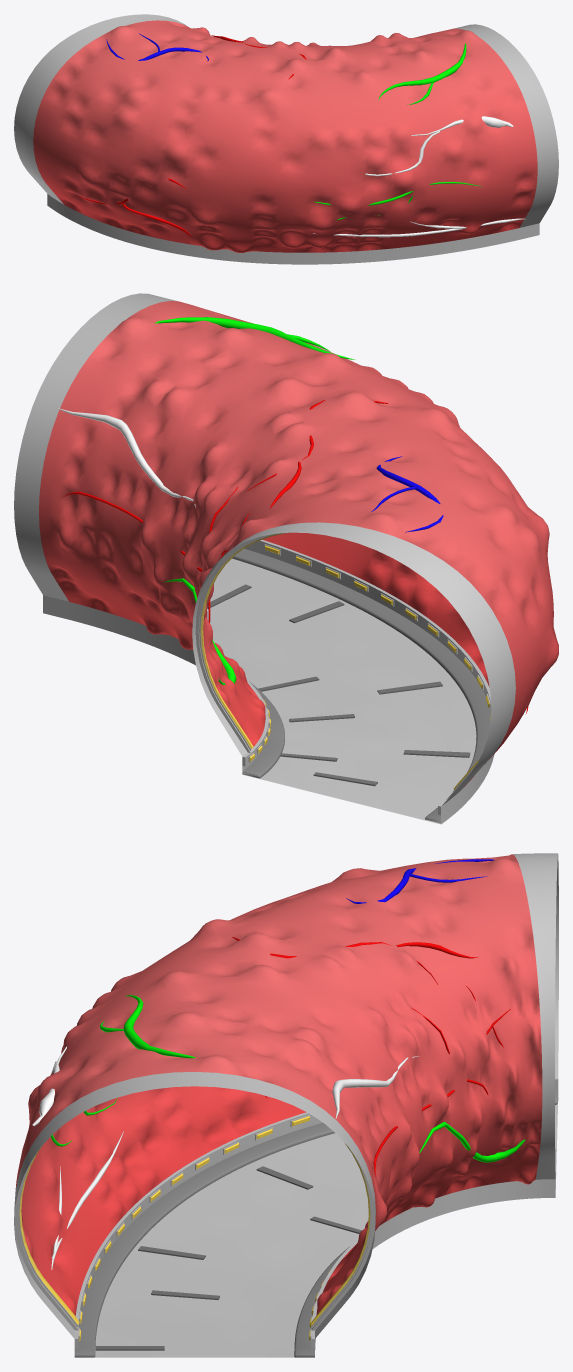
Rendered from Terowongan_2_Kanan.fbx.
3 renders of one model, top to bottom at view 1: azimuth 30°, elevation 25°; view 2: azimuth 150°, elevation 25°; view 3: azimuth 270°, elevation 25°, orthographic. The views are drawn at different scales.
Visible parts, largest first — view 1: Terowongan 2_Kanan; view 2: Terowongan 2_Kanan; view 3: Terowongan 2_Kanan.
Boxes of the visible parts, bbox=[...] form: Terowongan 2_Kanan: bbox=[14, 14, 558, 264]; Terowongan 2_Kanan: bbox=[14, 293, 558, 824]; Terowongan 2_Kanan: bbox=[14, 853, 558, 1357].
Size of the model in its own units: 989 by 450 by 794.
4 materials, 4 textured.
